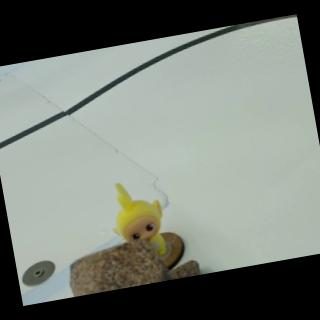teletubby: (114, 183, 167, 254)
